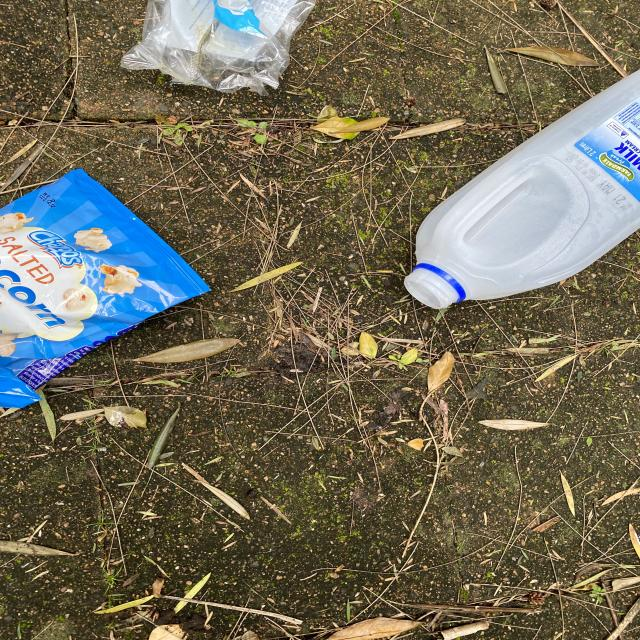bag: (0, 169, 210, 408)
bottle: (402, 69, 640, 308)
wrappers: (122, 0, 316, 94)
